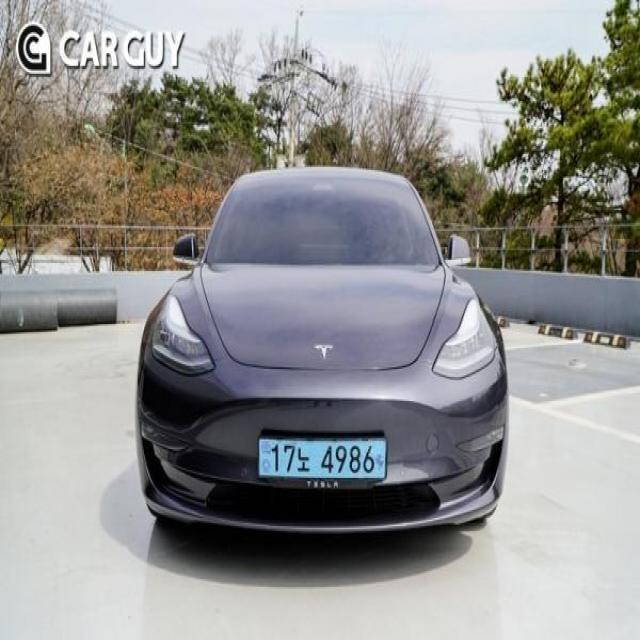EV_plate: (256, 428, 391, 491)
car: (133, 162, 510, 563)
